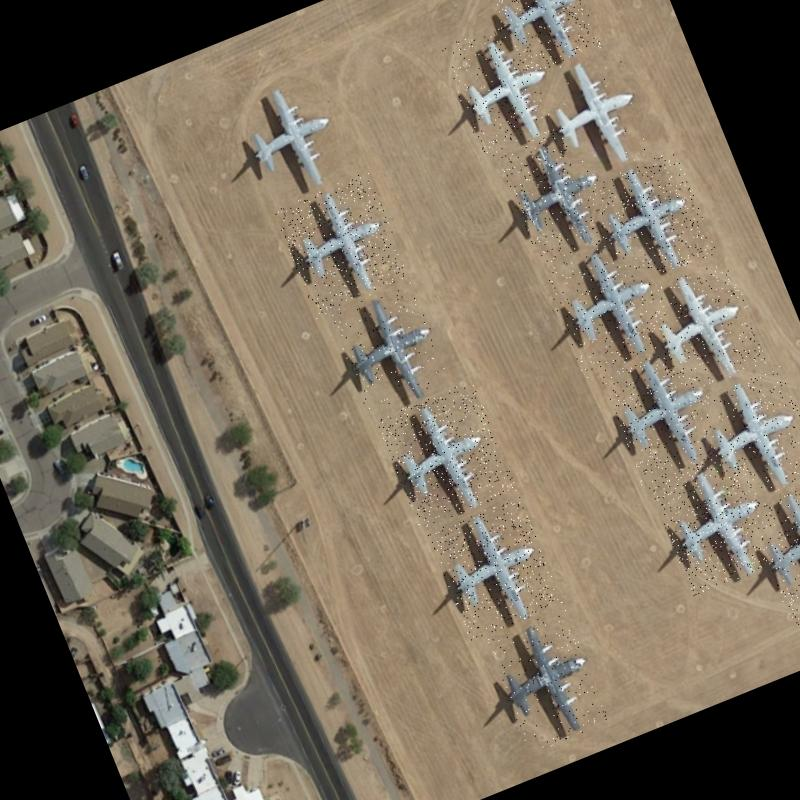A2: (375, 379, 517, 529), (647, 446, 786, 598), (272, 170, 412, 318), (222, 59, 360, 209), (540, 232, 678, 378), (427, 495, 562, 640), (439, 13, 571, 160), (495, 118, 622, 266), (484, 607, 611, 754), (636, 258, 769, 398), (598, 342, 728, 485), (585, 149, 717, 289), (324, 276, 450, 412), (537, 43, 659, 182), (694, 365, 800, 506), (478, 0, 603, 82), (744, 476, 800, 627)
